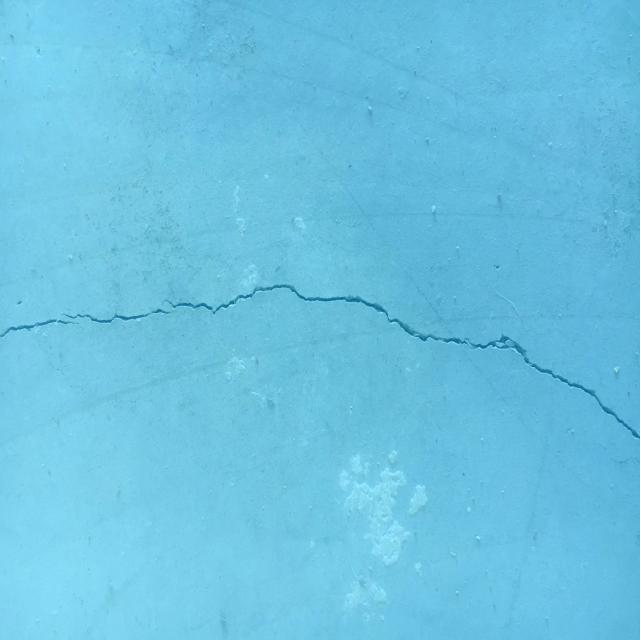crack: (161, 283, 640, 440), (0, 308, 174, 339)
